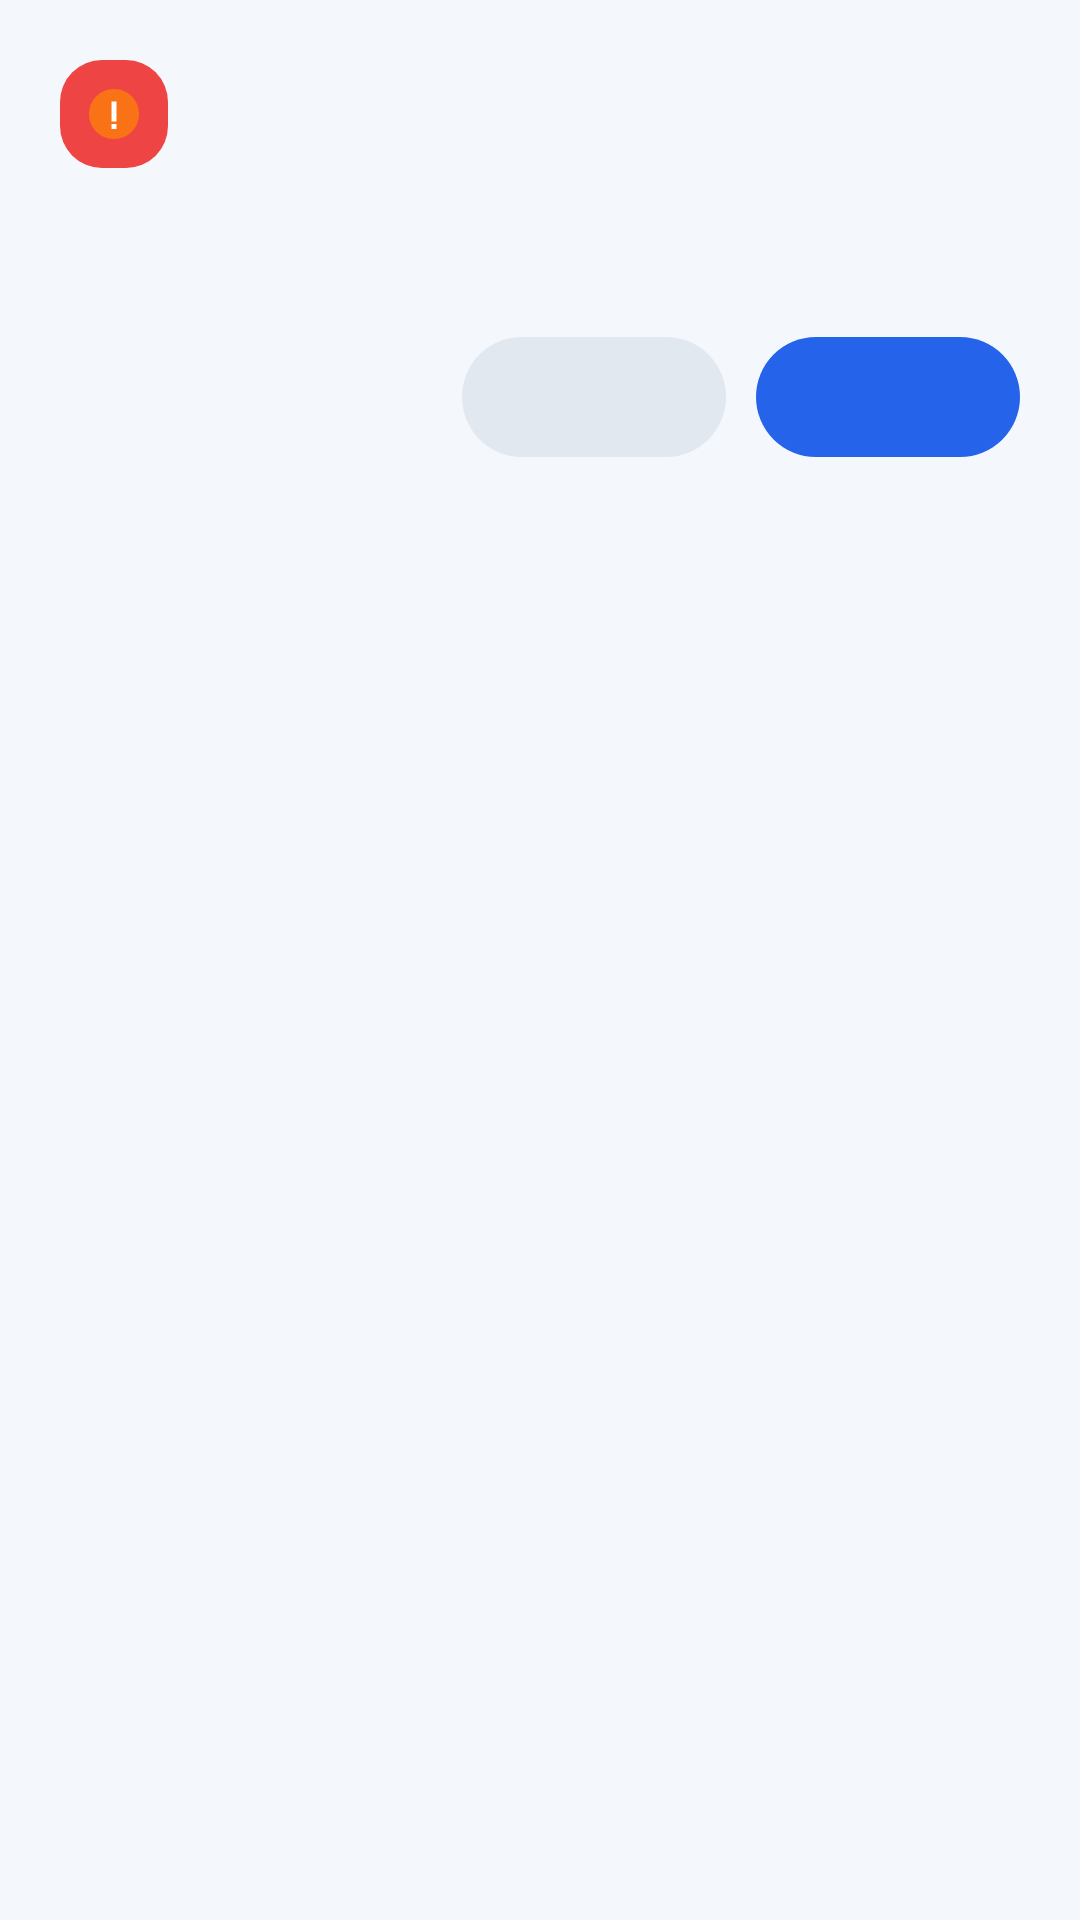

Where icons sit on this 1080 x 1920 app screen, as (x1, y1, x2, y2):
status warning: (60, 60, 168, 168)
